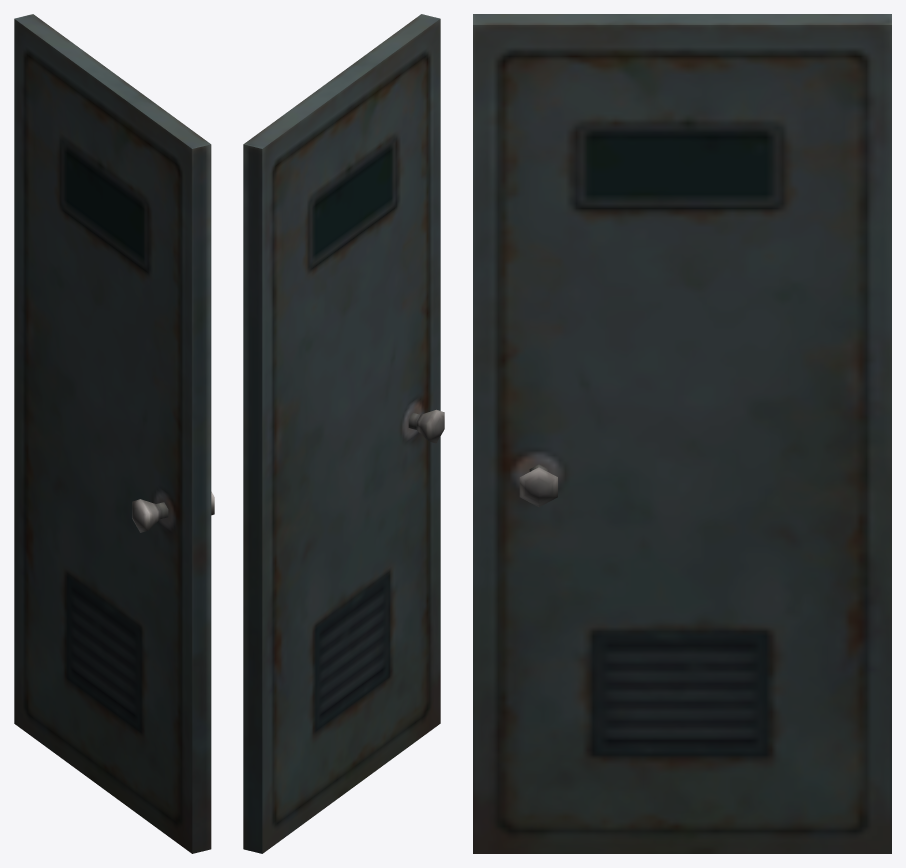
The model's file is Door01.FBX.
3 views of the same model, side by side, from view 1: azimuth 30°, elevation 25°; view 2: azimuth 150°, elevation 25°; view 3: azimuth 270°, elevation 25° (orthographic). The views are drawn at different scales.
Visible parts, largest first — view 1: Door01; view 2: Door01; view 3: Door01.
Boxes of the visible parts, x1,y1,x2,y2 form: Door01: (14,14,214,853); Door01: (243,14,444,853); Door01: (473,14,891,853).
Size of the model in its own units: 0.2751 by 2.28 by 1.05.
Materials: 1 (1 with a texture image).
